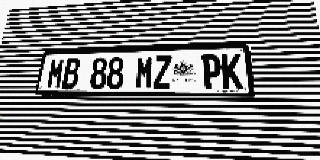8: (89, 57, 108, 89), (106, 57, 125, 89)
B: (61, 58, 81, 89)
K: (221, 53, 243, 89)
M: (135, 56, 154, 89), (46, 59, 65, 89)
P: (202, 54, 222, 89)
Z: (153, 55, 172, 89)
